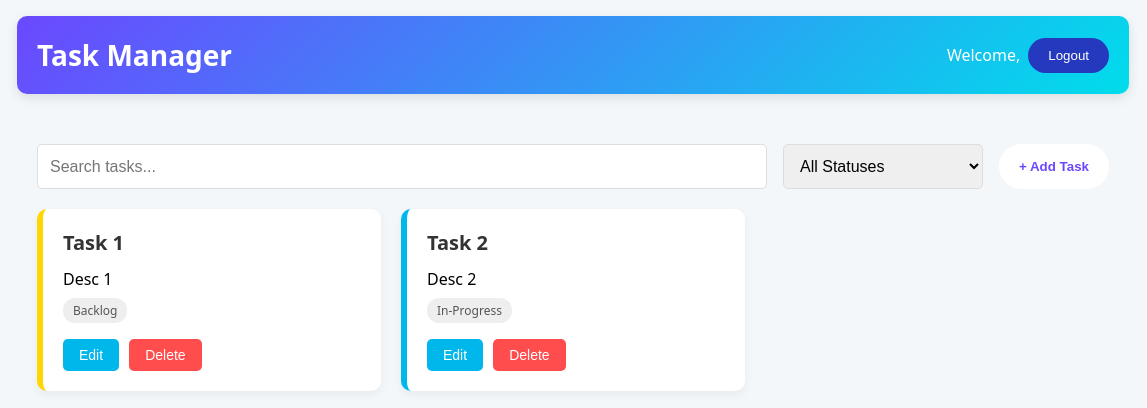
Test: App Component › filters tasks by search query
Expected: the heading "Task 1" is shown, left=63, top=229, right=124, bottom=256
Type "Task 1" into the field with placeholder "Search tasks..." at (402, 166), box left=37, top=144, right=767, bottom=189
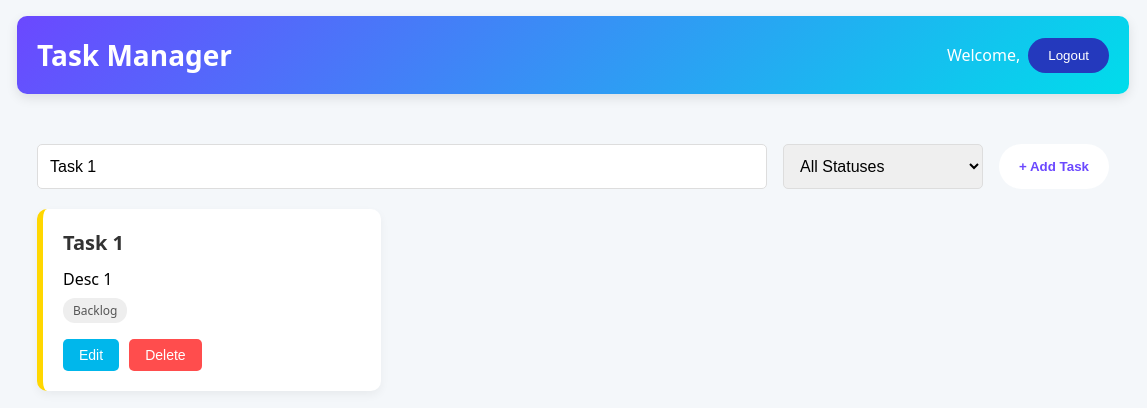
Expected: the heading "Task 1" is shown, left=63, top=229, right=124, bottom=256
Expected: the heading "Task 2" is gone
